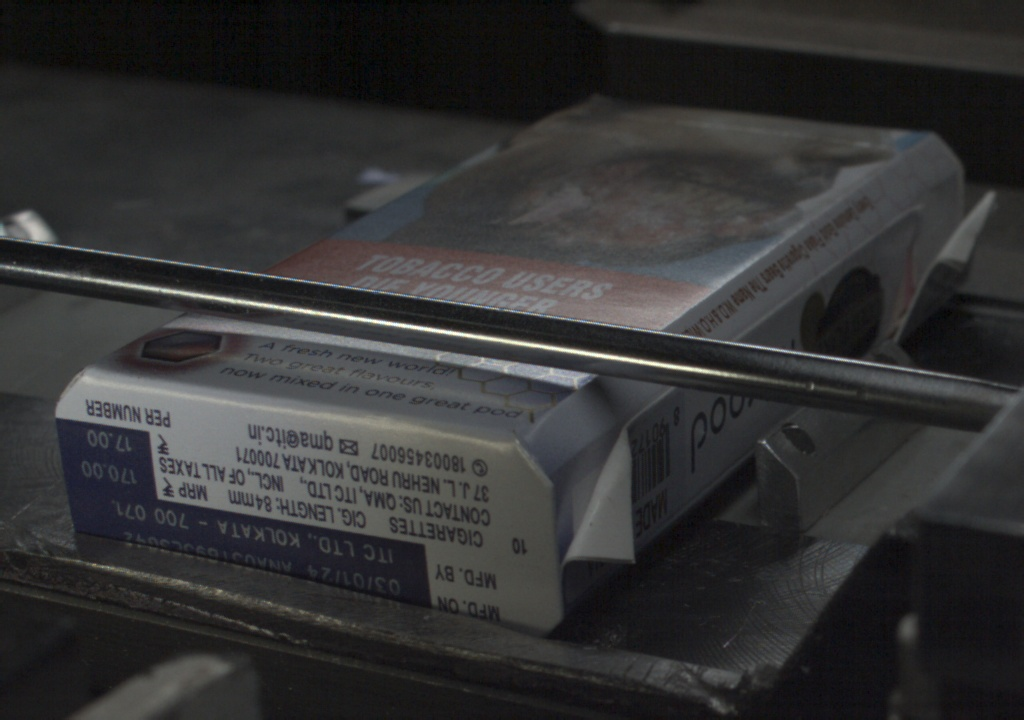g_bottom: (54, 383, 551, 640)
g_label: (72, 495, 431, 611)
g_lmiter: (735, 270, 827, 341), (827, 204, 916, 271)
ng_lmiter: (560, 422, 640, 571)
ng_miter: (924, 171, 997, 302)
price: (68, 427, 157, 494)
